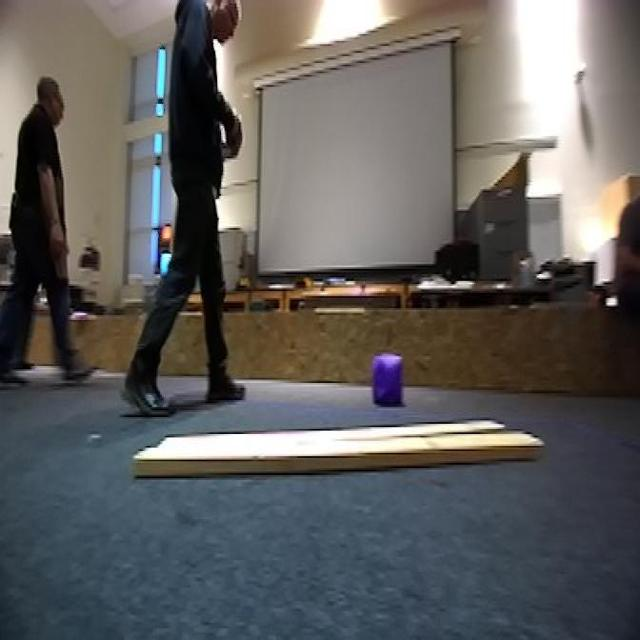frc_cube: (368, 356, 406, 407)
